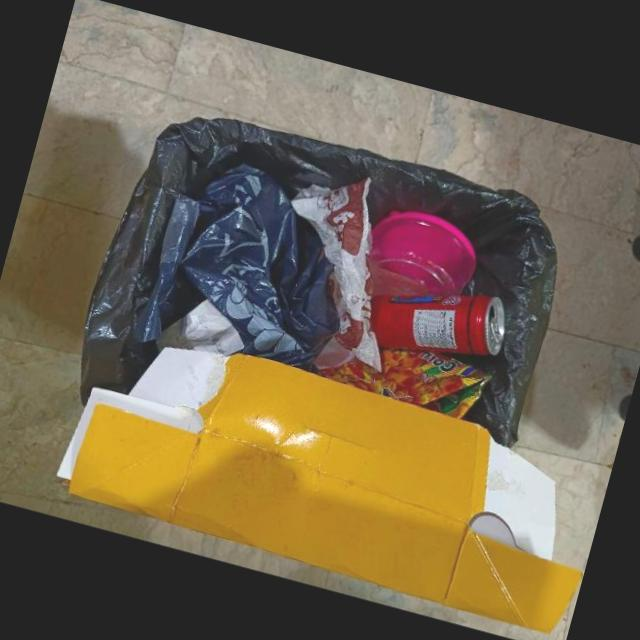bao_bi_thuc_pham: (318, 346, 491, 419)
carton: (55, 347, 583, 635)
chai_thuy_tinh: (364, 213, 477, 304)
giay: (290, 178, 381, 372)
nhom: (368, 295, 504, 356)
tui_ni_long: (134, 163, 339, 372)
